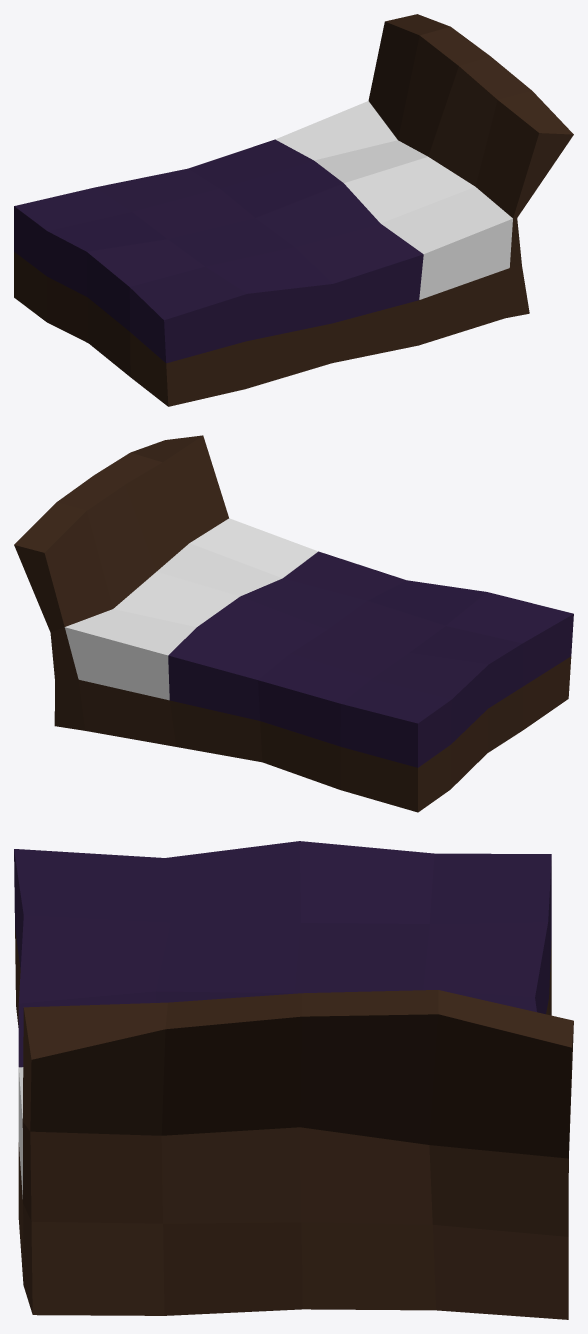
File: Bed_Purple.fbx
The picture shows the model from 3 angles, top to bottom: view 1: azimuth 30°, elevation 25°; view 2: azimuth 150°, elevation 25°; view 3: azimuth 270°, elevation 25°; orthographic projection. The views are drawn at different scales.
Parts seen in each view (by area): view 1: Bed Purple; view 2: Bed Purple; view 3: Bed Purple.
Part boxes in pixels (left/top/right/bottom): Bed Purple: left=14, top=14, right=573, bottom=406; Bed Purple: left=14, top=435, right=573, bottom=812; Bed Purple: left=14, top=841, right=573, bottom=1319.
Bounding box in the file's own units: 239 × 108 × 161.
